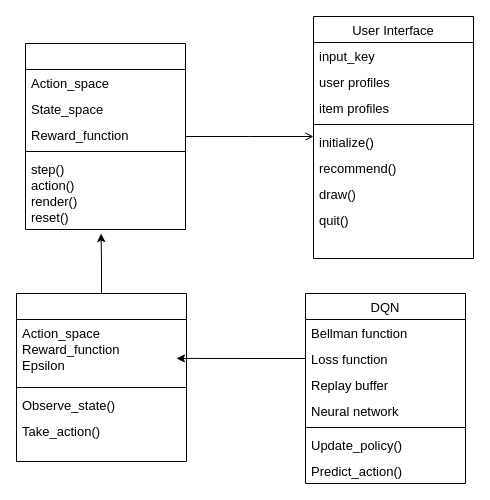
This 490x500 diagram has some shape labels left out. Here are the shapes that lost their labels. From the top down, the box of each, then its label:
(24, 42, 186, 230): OpenAI Gym environment
(16, 292, 186, 462): Agent
